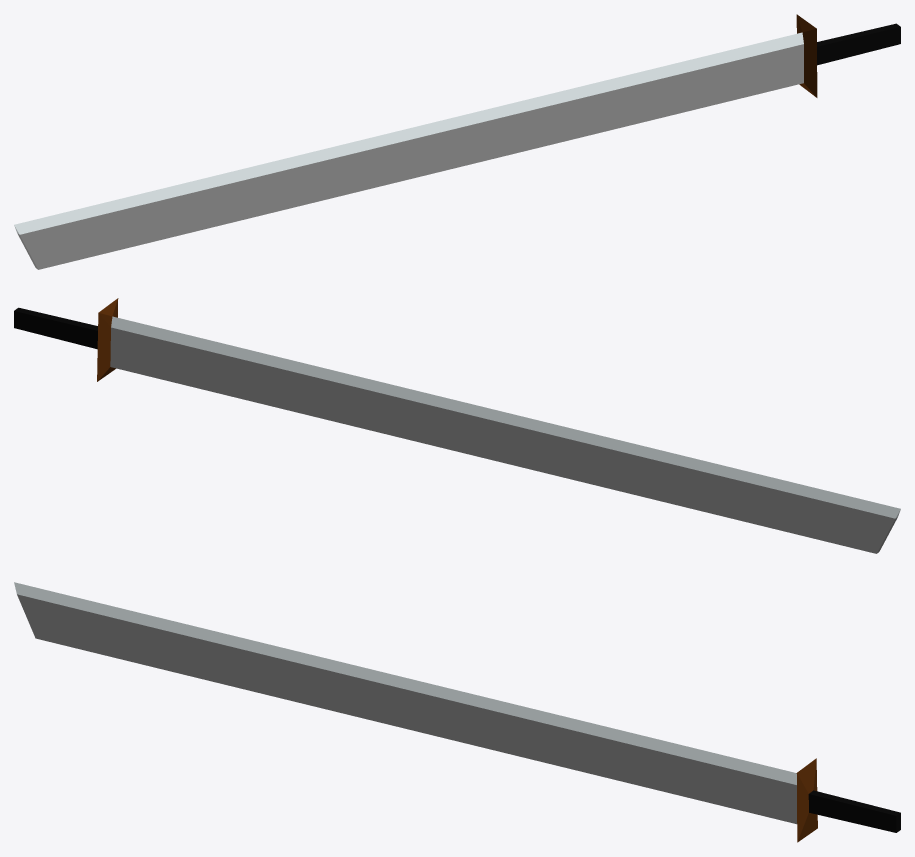
File: mySword.fbx
3 renders of one model, top to bottom at view 1: azimuth 30°, elevation 25°; view 2: azimuth 150°, elevation 25°; view 3: azimuth 330°, elevation 25°, orthographic.
Parts seen in each view (by area): view 1: Cube; view 2: Cube; view 3: Cube.
Part boxes in pixels (x1,y1,x2,y2): Cube: (14,14,900,269); Cube: (14,298,900,553); Cube: (14,582,900,842).
Size of the model in its own units: 587 by 44.27 by 23.04.
